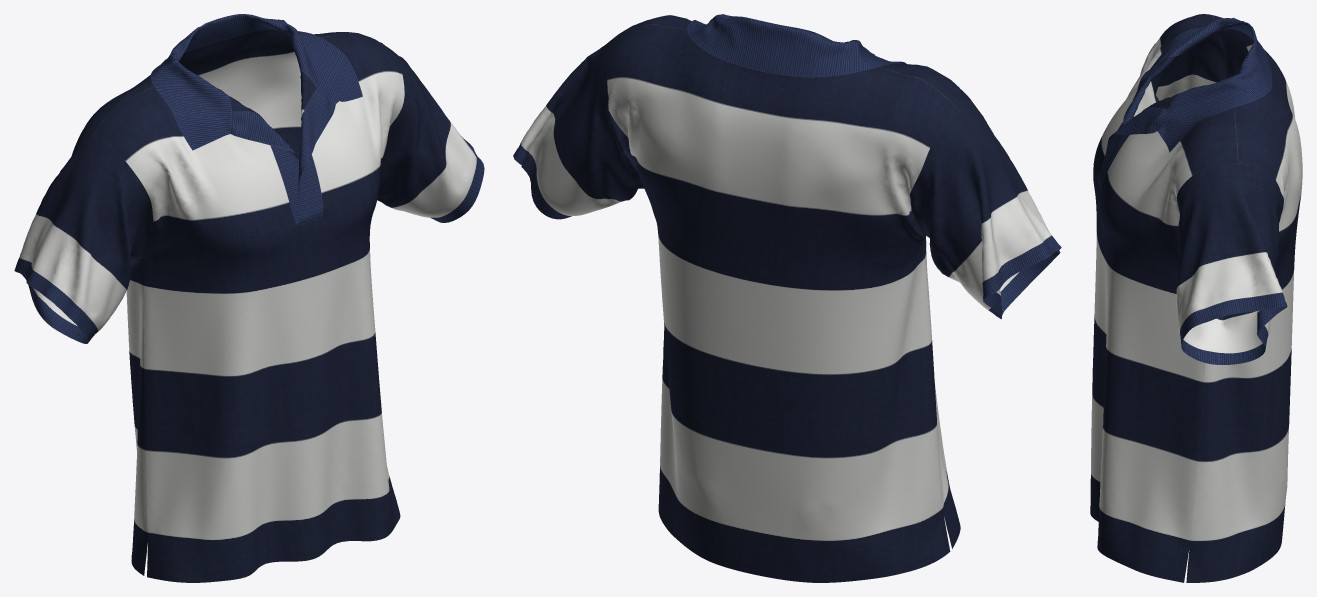
Rendered from XpewFrSqrx.glb.
The picture shows the model from 3 angles, left to right: view 1: azimuth 30°, elevation 25°; view 2: azimuth 150°, elevation 25°; view 3: azimuth 270°, elevation 25°; orthographic projection. The views are drawn at different scales.
Visible parts, largest first — view 1: AM_102_035_003; view 2: AM_102_035_003; view 3: AM_102_035_003.
Boxes of the visible parts, box(x1,y1,x2,y2) form: AM_102_035_003: box(14, 14, 484, 582); AM_102_035_003: box(513, 14, 1061, 582); AM_102_035_003: box(1090, 14, 1302, 582).
Size of the model in its own units: 1.68 by 1.75 by 0.6808.
Materials: 1 (1 with a texture image).
